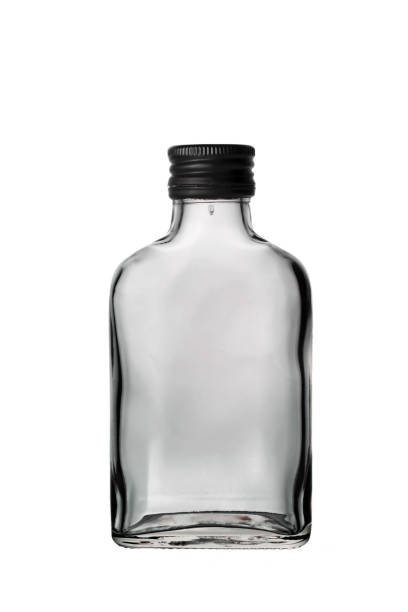glass_bottle: (85, 131, 352, 562)
